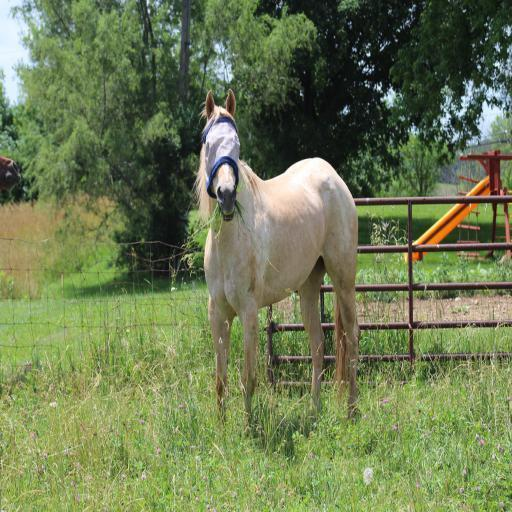horse: (192, 88, 361, 426)
